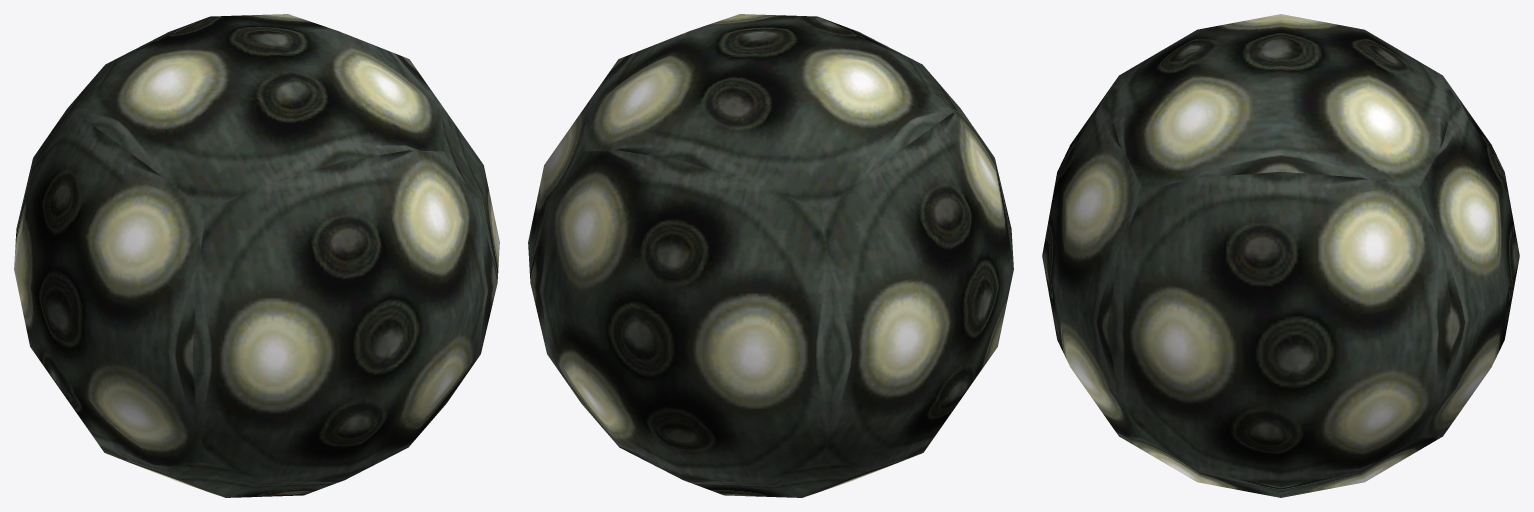
The model's file is cef_entertainer_coloredlights_discoball_l0.fbx.
The picture shows the model from 3 angles, left to right: view 1: azimuth 30°, elevation 25°; view 2: azimuth 150°, elevation 25°; view 3: azimuth 270°, elevation 25°; orthographic projection.
Visible parts, largest first — view 1: mesh_node; view 2: mesh_node; view 3: mesh_node.
Part boxes in pixels (x1=…): mesh_node: x1=14, y1=14, x2=499, y2=497; mesh_node: x1=528, y1=14, x2=1013, y2=497; mesh_node: x1=1042, y1=14, x2=1519, y2=497.
Bounding box in the file's own units: 0.7839 × 0.7839 × 0.7839.
